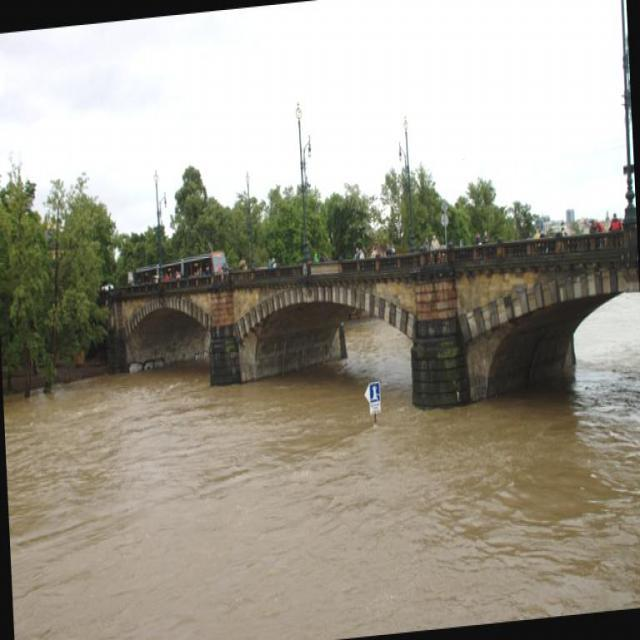flood: (2, 313, 639, 639)
